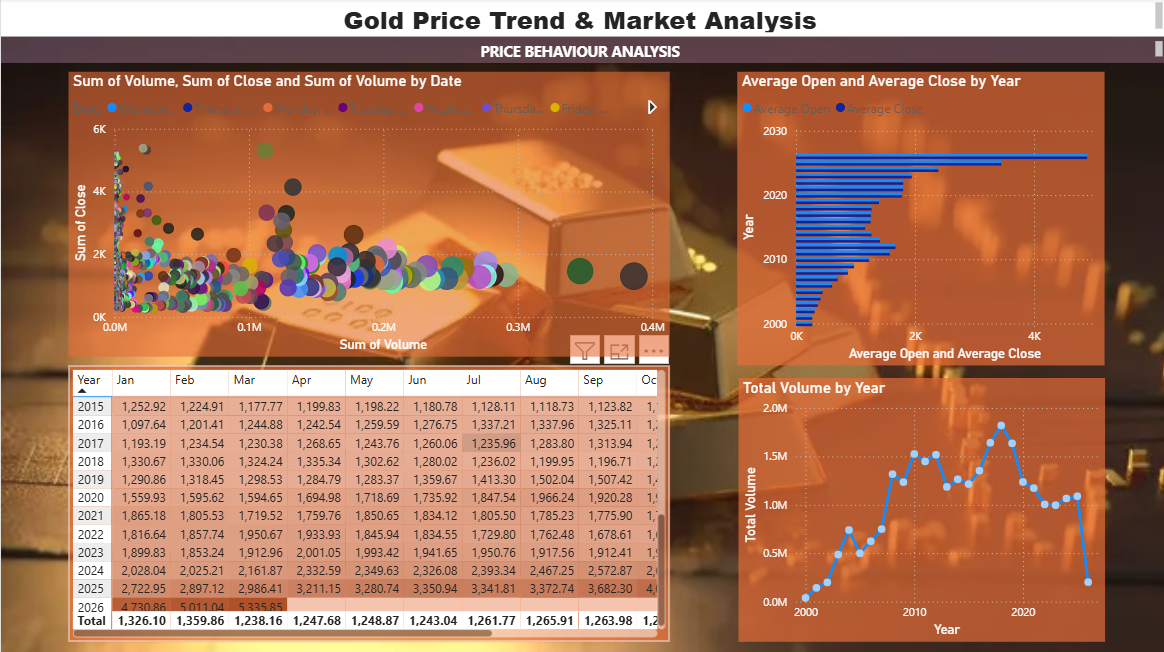

The dashboard page shown, as its layout file describes it:
{"tool":"powerbi","page":{"name":"Price Behaviour Analysis","canvas":[1280,720],"ordinal":1},"visuals":[{"type":"pivotTable","fields":{"Rows":["Date_Table.Year"],"Columns":["Date_Table.Month"],"Values":["Date_Table.Average Close"]},"box":[74.1,403.4,660,303.3],"z":0},{"type":"clusteredBarChart","fields":{"Category":["Date_Table.Year"],"Y":["Date_Table.Average Open","Date_Table.Average Close"]},"box":[808.2,81,403.4,322.5],"z":1000},{"type":"lineChart","fields":{"Category":["Date_Table.Date.Variation.Date Hierarchy.Year","Date_Table.Date.Variation.Date Hierarchy.Quarter","Date_Table.Date.Variation.Date Hierarchy.Month","Date_Table.Date.Variation.Date Hierarchy.Day"],"Y":["Date_Table.Total Volume"]},"box":[809.6,417.2,402.1,289.5],"z":2000},{"type":"scatterChart","fields":{"Size":["Sum(gold_price_clean.Volume)"],"Series":["gold_price_clean.Date"],"X":["Sum(gold_price_clean.Volume)"],"Y":["Sum(gold_price_clean.Close)"]},"box":[74.1,81,660,312.9],"z":3000},{"type":"textbox","box":[0,42.5,1280.3,28.8],"z":4000},{"type":"textbox","box":[0,0,1280.3,42.5],"z":5000}]}

Visuals, with their boxes in screenshot pixels (x1, y1, x2, y2), scaled from the page's 1280x720 canvas onto the 1164x652 screenshot:
pivotTable - Date_Table.Year x Date_Table.Month: [left=67, top=365, right=668, bottom=640]
clusteredBarChart - Date_Table.Year x Date_Table.Average Open: [left=735, top=73, right=1102, bottom=365]
lineChart - Date_Table.Date.Variation.Date Hierarchy.Year x Date_Table.Date.Variation.Date Hierarchy.Quarter: [left=736, top=378, right=1102, bottom=640]
scatterChart - Sum(gold_price_clean.Volume) x gold_price_clean.Date: [left=67, top=73, right=668, bottom=357]
textbox: [left=0, top=38, right=1163, bottom=65]
textbox: [left=0, top=0, right=1163, bottom=38]
